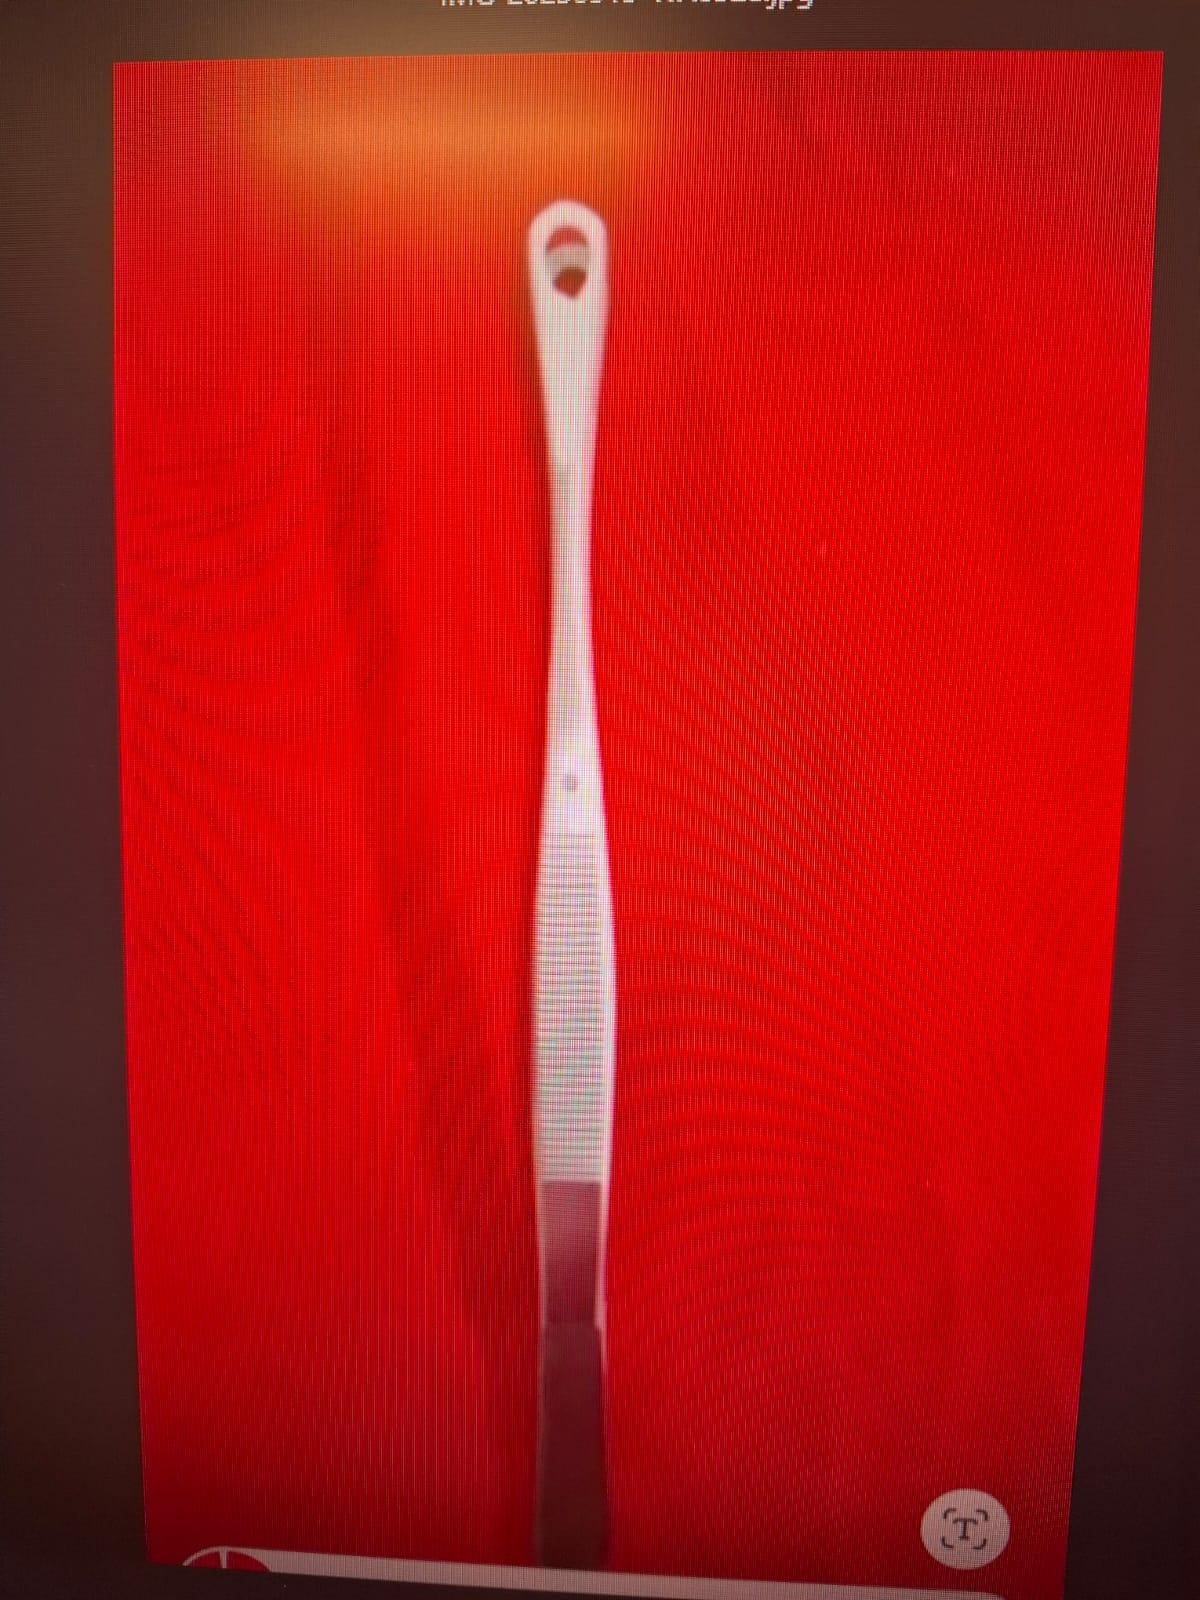Eye Intestinal Forceps: (485, 178, 678, 1598)
